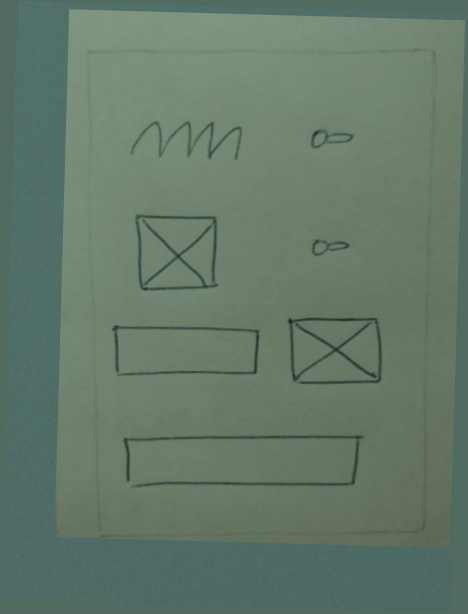image: (277, 308, 399, 391), (128, 204, 227, 298)
switch: (295, 116, 364, 158), (301, 225, 363, 270)
text: (116, 112, 251, 166)
text_input: (112, 424, 372, 502), (106, 318, 265, 387)
